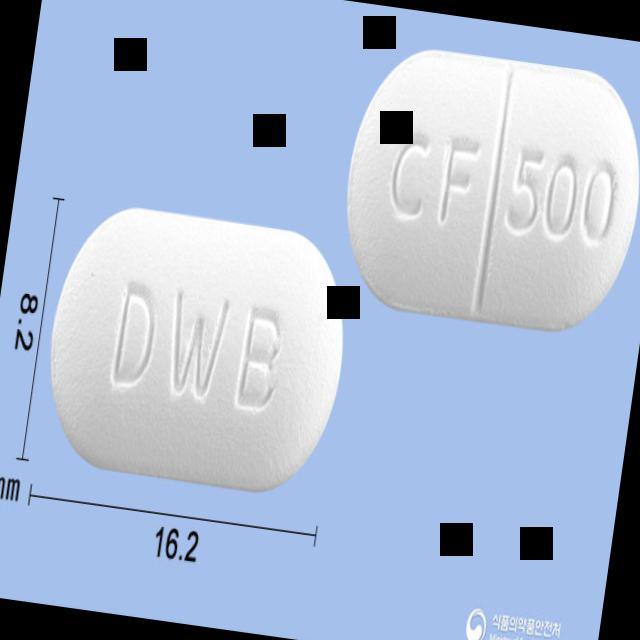Bearcin: (30, 192, 362, 508)
